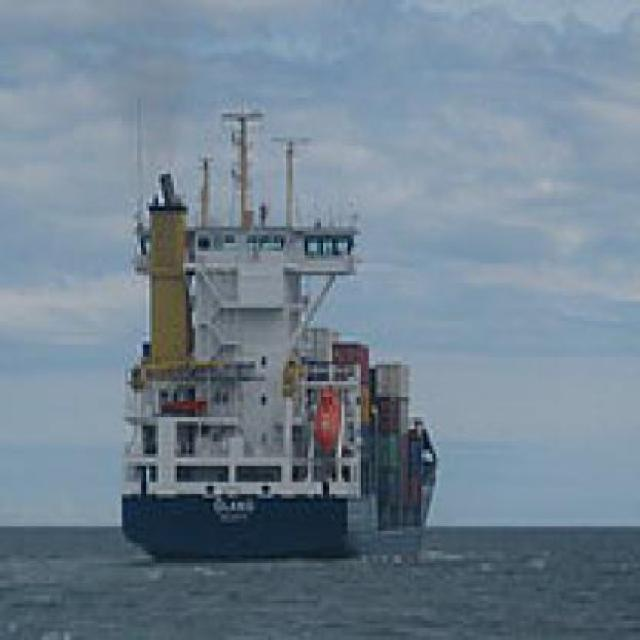container: (111, 86, 449, 577)
